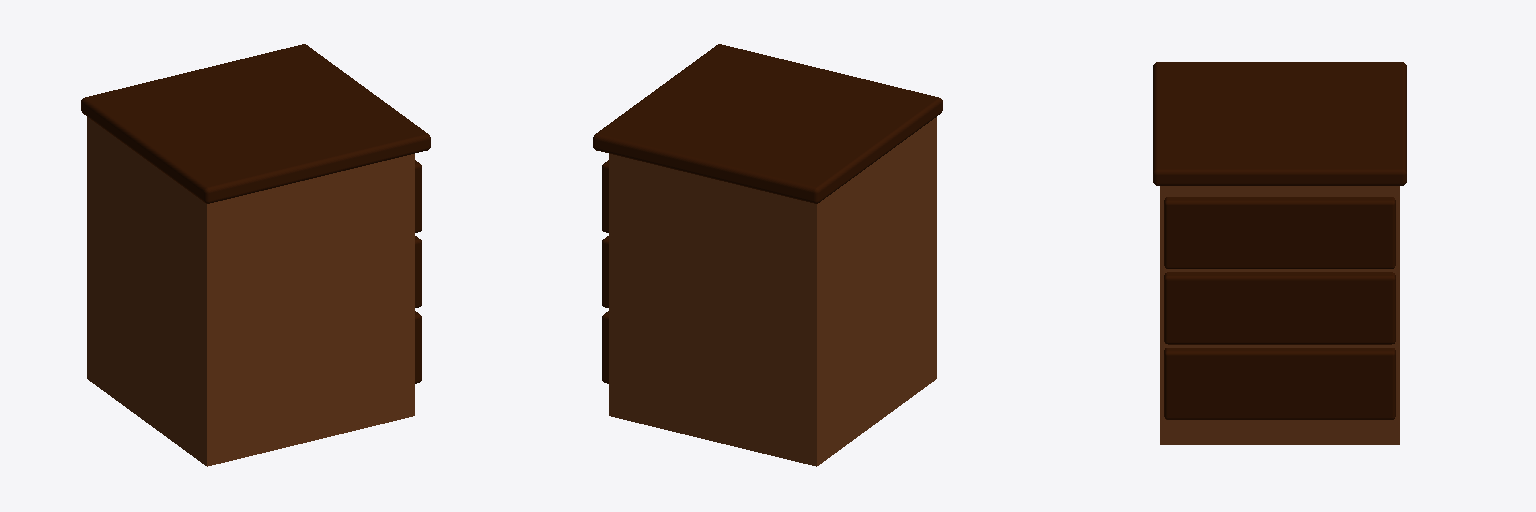
Rendered from comodino.obj.
3 renders of one model, left to right at view 1: azimuth 30°, elevation 25°; view 2: azimuth 150°, elevation 25°; view 3: azimuth 270°, elevation 25°, orthographic.
Parts seen in each view (by area): view 1: Cube, Cube.001, Cube.002; view 2: Cube, Cube.001, Cube.002; view 3: Cube.002, Cube.001, Cube.
Part boxes in pixels (x1,y1,x2,y2): Cube: (87,117,414,466); Cube.001: (81,44,430,203); Cube.002: (415,160,421,383); Cube: (609,117,936,466); Cube.001: (593,44,942,203); Cube.002: (602,160,608,383); Cube.002: (1164,197,1395,419); Cube.001: (1153,62,1406,185); Cube: (1160,186,1399,444).
Size of the model in its own units: 2.17 by 2.57 by 2.11.